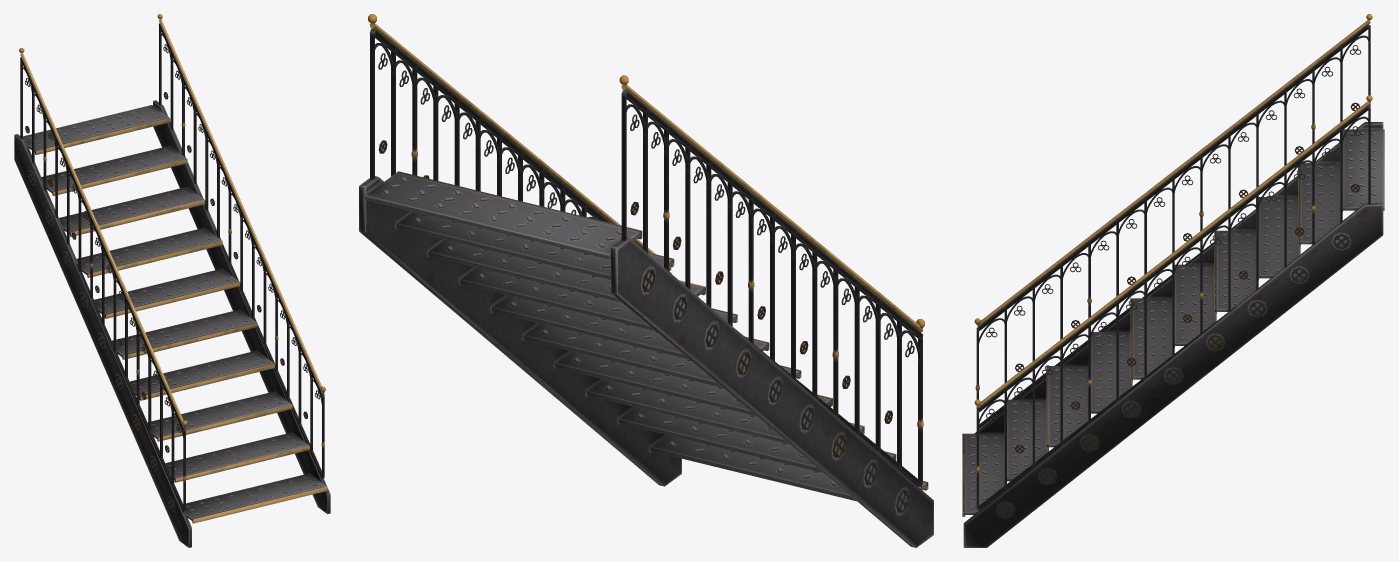
Rendered from StairIron.fbx.
The picture shows the model from 3 angles, left to right: view 1: azimuth 30°, elevation 25°; view 2: azimuth 150°, elevation 25°; view 3: azimuth 270°, elevation 25°; orthographic projection. The views are drawn at different scales.
Visible parts, largest first — view 1: StairIron_Main, StairIron_Rail; view 2: StairIron_Main, StairIron_Rail; view 3: StairIron_Main, StairIron_Rail.
Part boxes in pixels (left/top/right/bottom): StairIron_Main: left=14, top=100, right=330, bottom=547; StairIron_Rail: left=19, top=14, right=325, bottom=512; StairIron_Main: left=359, top=171, right=933, bottom=547; StairIron_Rail: left=368, top=14, right=924, bottom=487; StairIron_Main: left=962, top=122, right=1384, bottom=547; StairIron_Rail: left=974, top=14, right=1372, bottom=510.
Bounding box in the file's own units: 426 × 1069 × 906.
